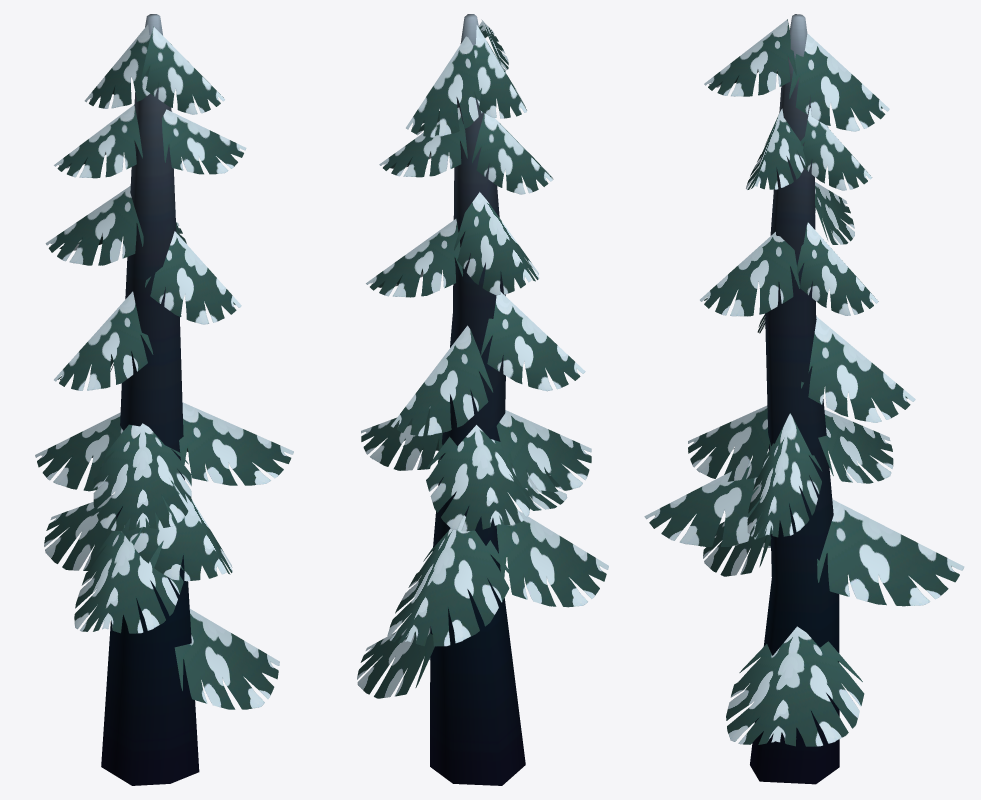
File: tree-02c.glb
3 views of the same model, side by side, from view 1: azimuth 30°, elevation 25°; view 2: azimuth 150°, elevation 25°; view 3: azimuth 270°, elevation 25° (orthographic).
Visible parts, largest first — view 1: Tree 02C, Leaf 01 (15), Leaf 01 (8), Leaf 01 (7), Leaf 01 (1), Leaf 01, Leaf 01 (3), Leaf 01 (18), Leaf 01 (6), Leaf 01 (5), Leaf 01 (16), Leaf 01 (12) (+3 smaller); view 2: Tree 02C, Leaf 01 (2), Leaf 01 (16), Leaf 01 (8), Leaf 01 (10), Leaf 01 (3), Leaf 01 (15), Leaf 01 (6), Leaf 01 (19), Leaf 01 (4), Leaf 01 (13), Leaf 01 (7) (+4 smaller); view 3: Tree 02C, Leaf 01 (7), Leaf 01 (2), Leaf 01 (10), Leaf 01 (1), Leaf 01, Leaf 01 (19), Leaf 01 (18), Leaf 01 (15), Leaf 01 (4), Leaf 01 (16), Leaf 01 (5) (+4 smaller).
Boxes of the visible parts, x1=… form: Tree 02C: x1=101, y1=14, x2=199, y2=785; Leaf 01 (15): x1=93, y1=423, x2=191, y2=530; Leaf 01 (8): x1=74, y1=527, x2=183, y2=633; Leaf 01 (7): x1=174, y1=609, x2=279, y2=709; Leaf 01 (1): x1=179, y1=402, x2=293, y2=485; Leaf 01: x1=122, y1=478, x2=232, y2=581; Leaf 01 (3): x1=54, y1=291, x2=153, y2=390; Leaf 01 (18): x1=145, y1=231, x2=241, y2=324; Leaf 01 (6): x1=45, y1=186, x2=143, y2=265; Leaf 01 (5): x1=140, y1=26, x2=224, y2=114; Leaf 01 (16): x1=35, y1=412, x2=123, y2=491; Leaf 01 (12): x1=162, y1=109, x2=246, y2=174; Tree 02C: x1=430, y1=14, x2=525, y2=785; Leaf 01 (2): x1=387, y1=515, x2=509, y2=646; Leaf 01 (16): x1=426, y1=425, x2=530, y2=531; Leaf 01 (8): x1=496, y1=509, x2=608, y2=607; Leaf 01 (10): x1=391, y1=325, x2=493, y2=436; Leaf 01 (3): x1=481, y1=291, x2=585, y2=391; Leaf 01 (15): x1=496, y1=410, x2=591, y2=491; Leaf 01 (6): x1=454, y1=192, x2=539, y2=295; Leaf 01 (19): x1=406, y1=36, x2=482, y2=137; Leaf 01 (4): x1=366, y1=218, x2=463, y2=297; Leaf 01 (13): x1=472, y1=113, x2=553, y2=194; Leaf 01 (7): x1=357, y1=627, x2=434, y2=698; Tree 02C: x1=750, y1=14, x2=839, y2=784; Leaf 01 (7): x1=726, y1=626, x2=864, y2=746; Leaf 01 (2): x1=817, y1=499, x2=964, y2=606; Leaf 01 (10): x1=801, y1=316, x2=915, y2=422; Leaf 01 (1): x1=747, y1=413, x2=822, y2=537; Leaf 01: x1=644, y1=452, x2=772, y2=546; Leaf 01 (19): x1=789, y1=33, x2=889, y2=131; Leaf 01 (18): x1=700, y1=232, x2=799, y2=316; Leaf 01 (15): x1=688, y1=405, x2=771, y2=481; Leaf 01 (4): x1=794, y1=222, x2=878, y2=315; Leaf 01 (16): x1=818, y1=409, x2=893, y2=483; Leaf 01 (5): x1=704, y1=19, x2=796, y2=96.
Size of the model in its own units: 2.37 by 6.84 by 2.68.
1 material, 1 textured.
